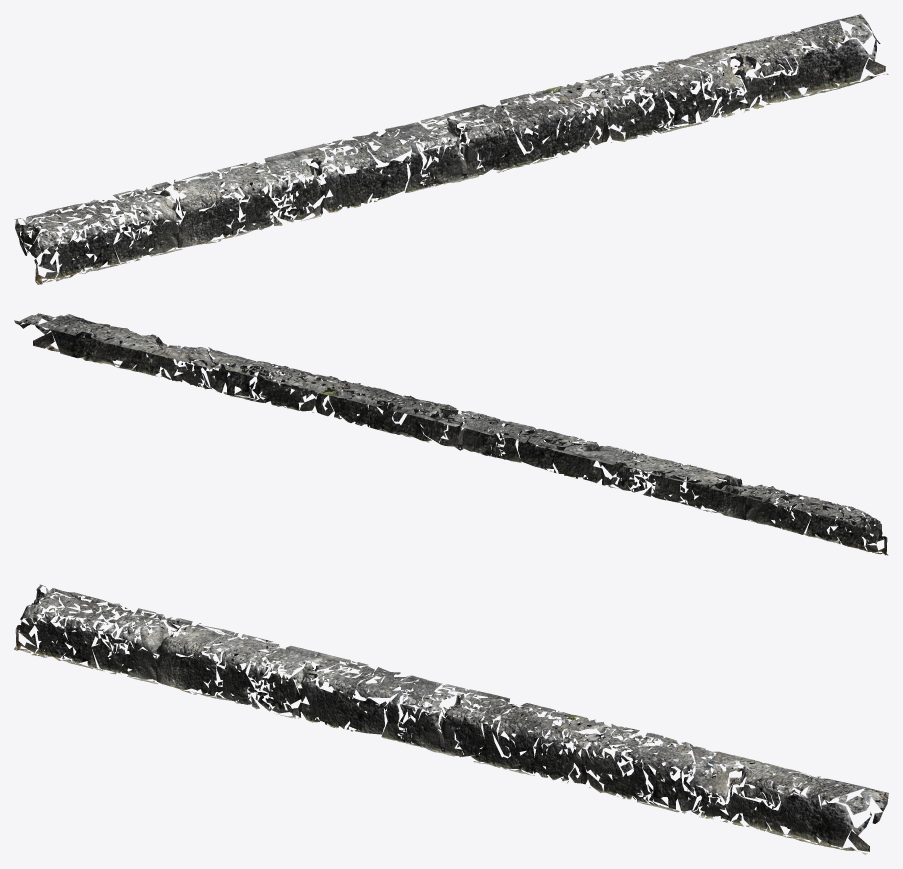
The model's file is cordolo-in-pietra.glb.
3 views of the same model, one above another, from view 1: azimuth 30°, elevation 25°; view 2: azimuth 150°, elevation 25°; view 3: azimuth 330°, elevation 25° (orthographic).
Parts seen in each view (by area): view 1: Object_4, Object_3, Object_2, Object_5; view 2: Object_3, Object_4, Object_2, Object_5; view 3: Object_4, Object_3, Object_2, Object_5.
Boxes of the visible parts, left/top/right/bottom form: Object_4: left=20, top=31, right=876, bottom=276; Object_3: left=36, top=29, right=884, bottom=282; Object_2: left=14, top=14, right=888, bottom=284; Object_5: left=32, top=25, right=885, bottom=282; Object_3: left=56, top=315, right=885, bottom=554; Object_4: left=35, top=318, right=884, bottom=544; Object_2: left=14, top=314, right=888, bottom=555; Object_5: left=33, top=313, right=875, bottom=552; Object_4: left=18, top=592, right=870, bottom=847; Object_3: left=17, top=596, right=871, bottom=852; Object_2: left=14, top=584, right=888, bottom=854; Object_5: left=23, top=593, right=869, bottom=851.
Bounding box in the file's own units: 2.78 × 0.1611 × 0.1462.
1 material, 1 textured.
